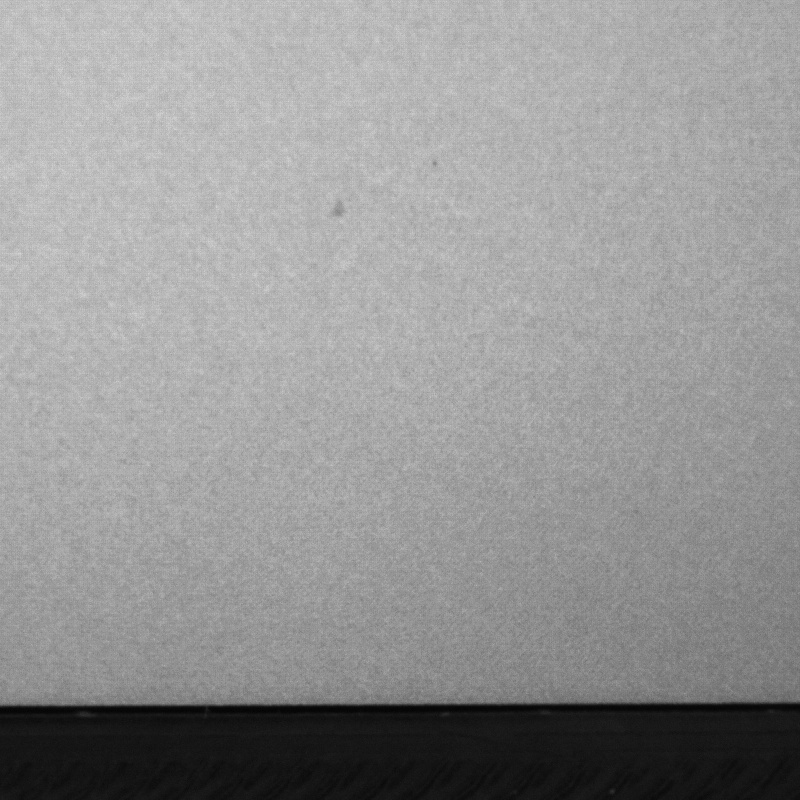defect: (331, 200, 349, 219), (434, 157, 440, 174)
